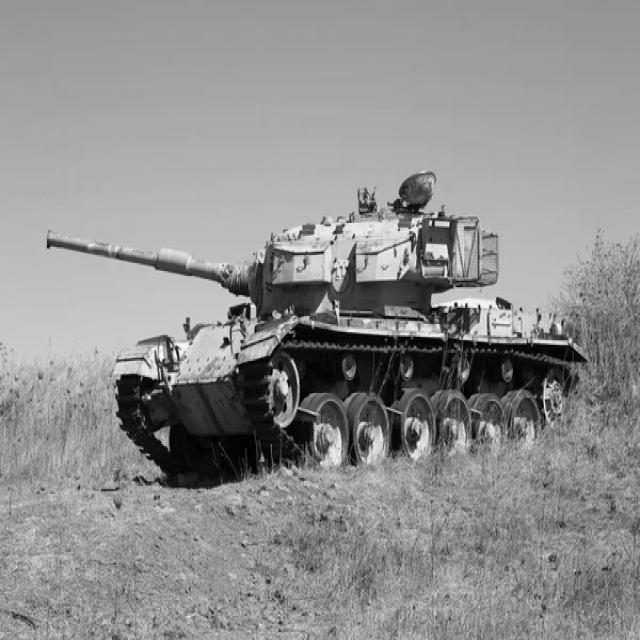Tank: (45, 175, 602, 469)
